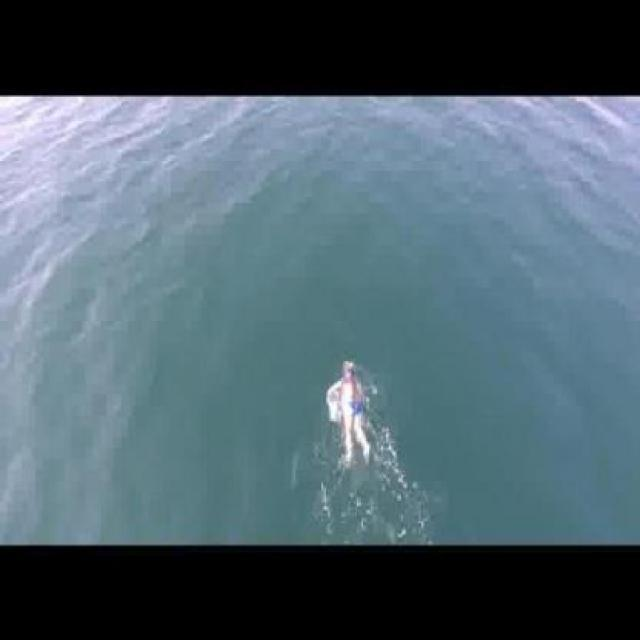swimming: (327, 366, 376, 449)
